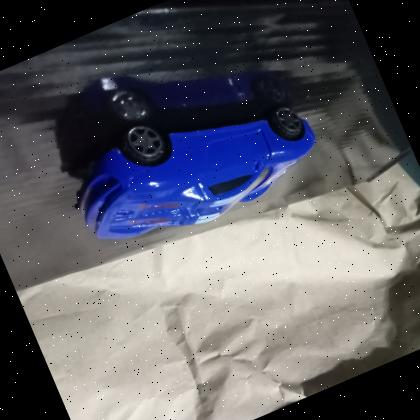Car: (75, 104, 315, 239)
